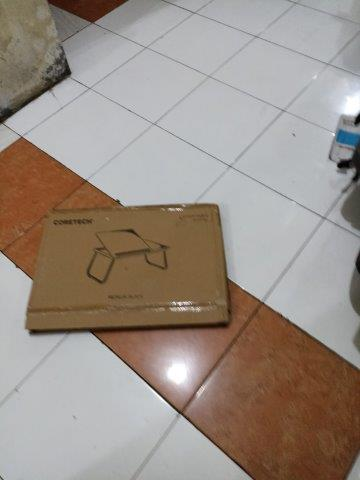kardus: (26, 207, 229, 329)
